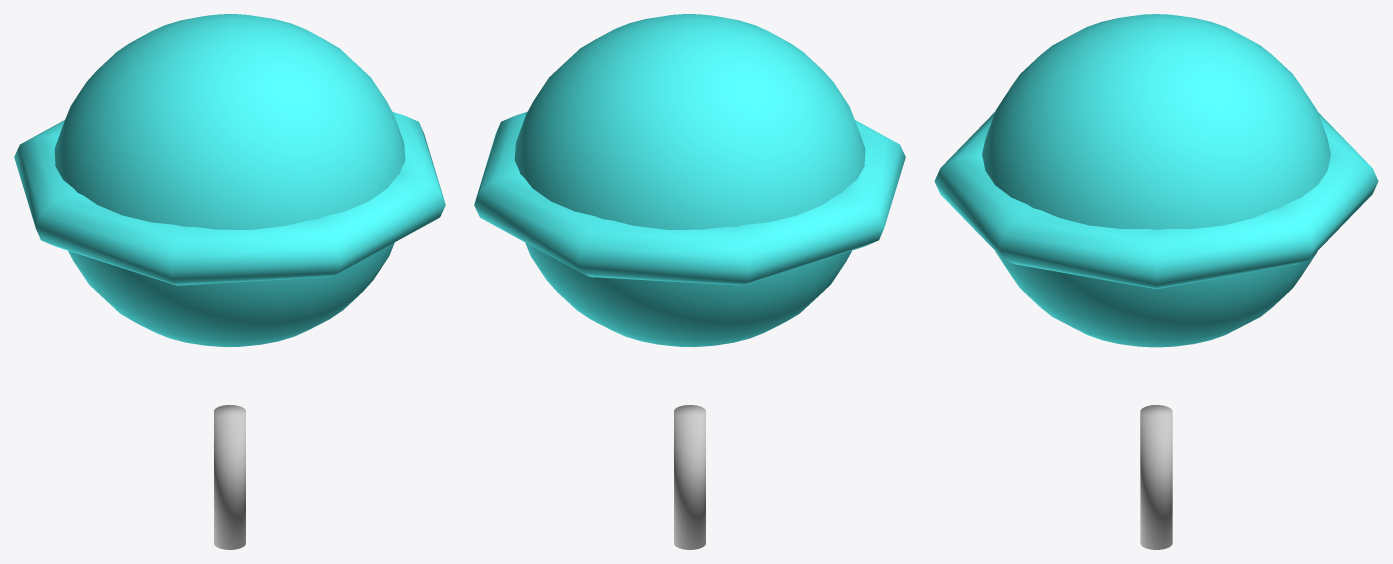
File: blueball.fbx
3 views of the same model, side by side, from view 1: azimuth 30°, elevation 25°; view 2: azimuth 150°, elevation 25°; view 3: azimuth 270°, elevation 25° (orthographic).
Visible parts, largest first — view 1: Sphere, Cylinder; view 2: Sphere, Cylinder; view 3: Sphere, Cylinder.
Part boxes in pixels (<box>): Sphere: <box>14,14,445,347</box>; Cylinder: <box>214,405,245,549</box>; Sphere: <box>474,14,905,347</box>; Cylinder: <box>674,405,705,549</box>; Sphere: <box>934,14,1378,347</box>; Cylinder: <box>1140,405,1172,549</box>.
Bounding box in the file's own units: 874 × 1100 × 866.
